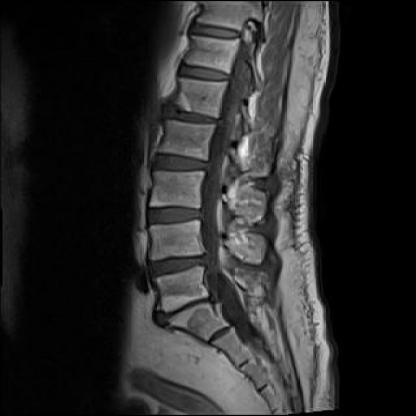Degenerative Disc Diseaserotation: (141, 246, 218, 279), (149, 297, 228, 324)
Disc Bulgerotation: (142, 247, 217, 280), (148, 296, 226, 323)
Disc Relaxationrotation: (142, 201, 208, 232), (159, 101, 223, 132), (149, 147, 213, 178)
